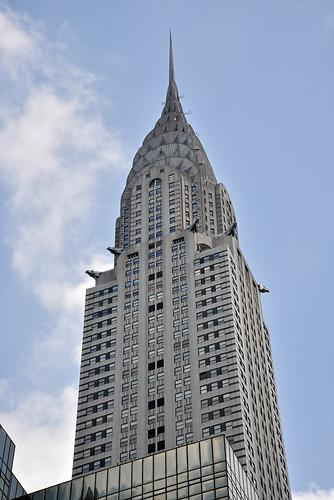building: (67, 103, 299, 500)
